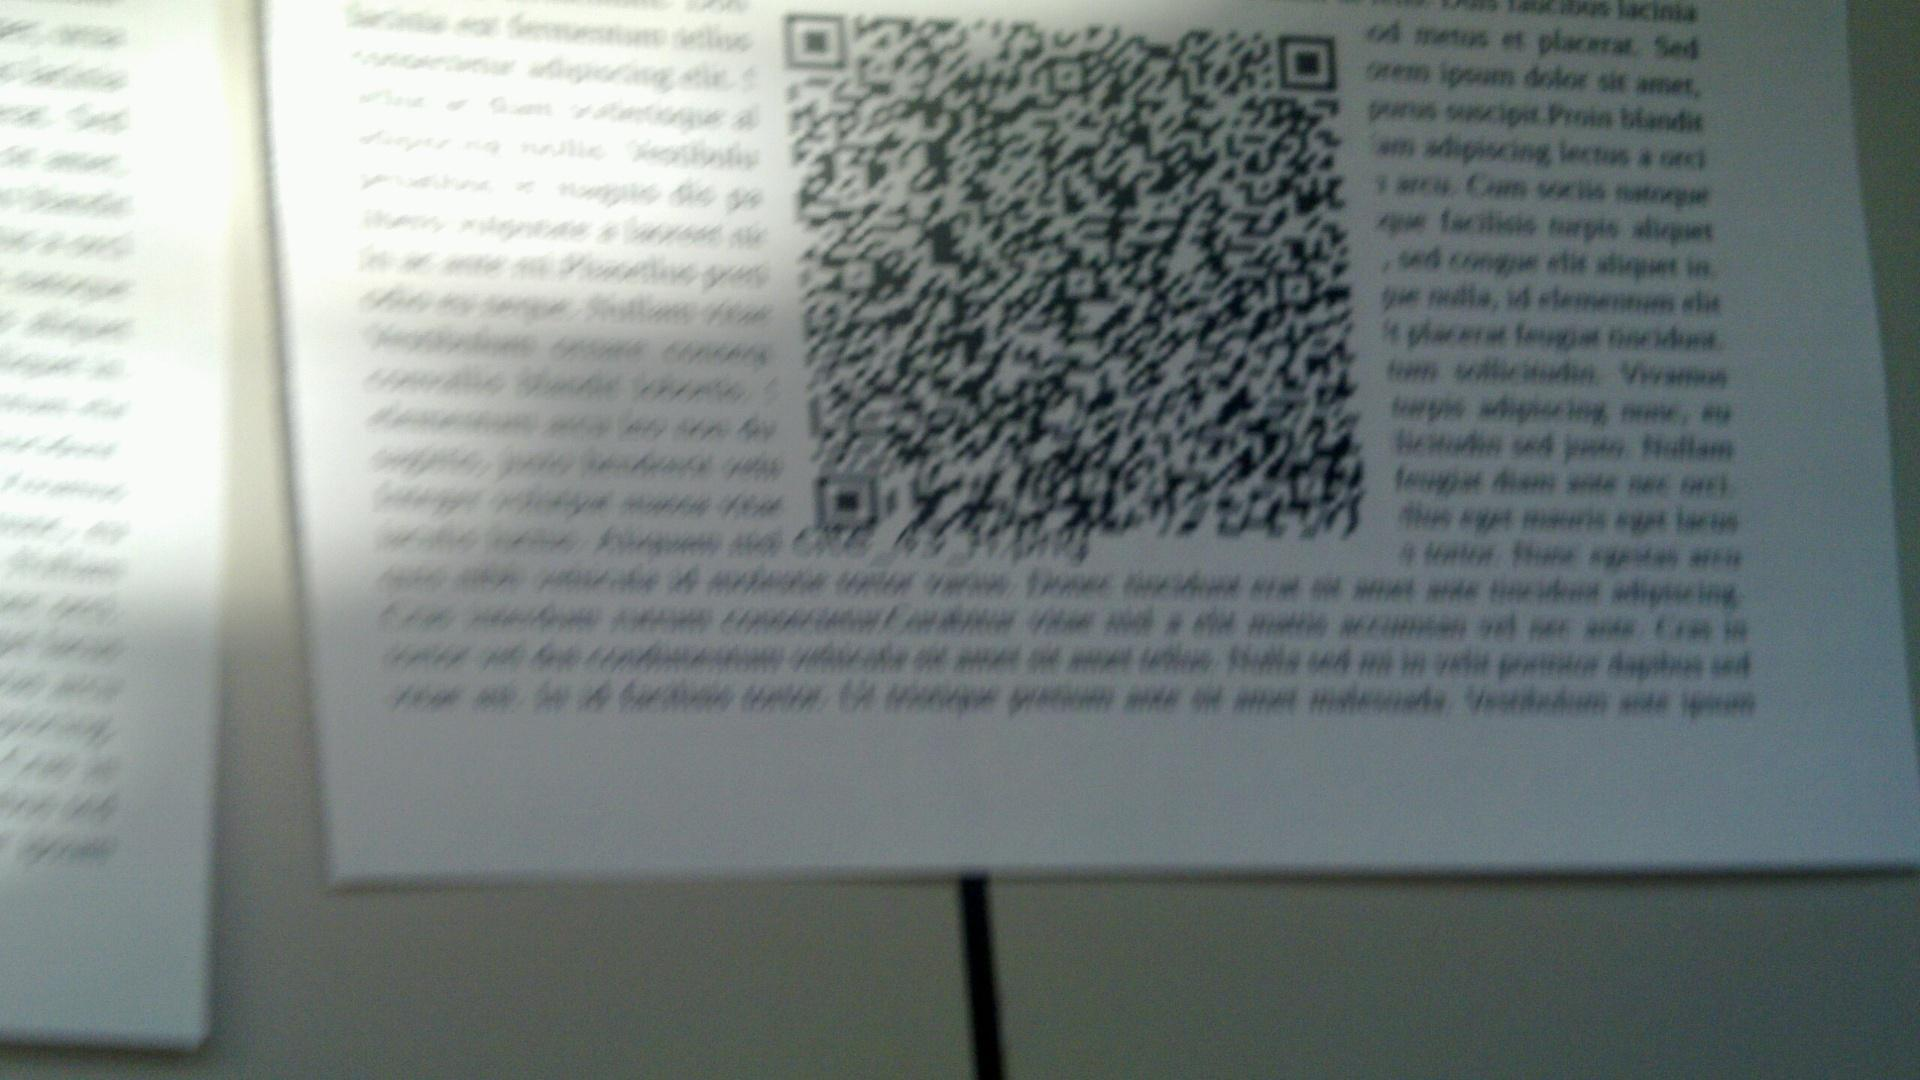Finder pattern: (804, 467, 887, 537), (1269, 24, 1346, 94), (779, 7, 857, 75)
